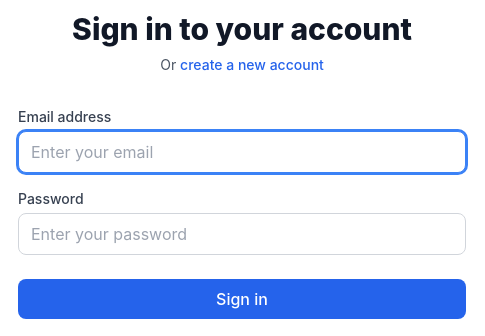
LoginPage › shows loading state during form submission
The image size is (485, 336).
Step 1. Type "test@example.com" into the field labelled "Email address" → (242, 152), box [18, 131, 466, 173]
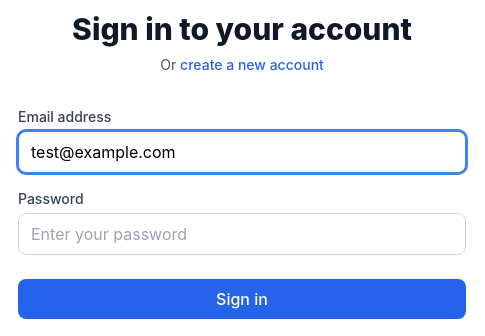
Step 2. Type "password123" into the password field labelled "Password" → (242, 234), box [18, 213, 466, 255]
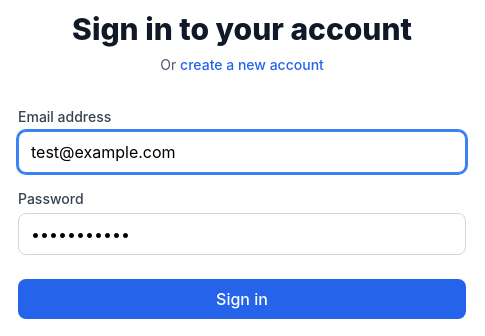
Step 3. Click the button "Sign in" → (242, 299), box [18, 279, 466, 319]
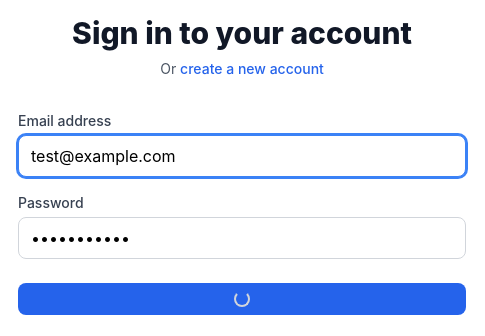
Expected: the button named "sign in" is disabled, [18, 283, 466, 315]
Expected: the message with test id "loading-spinner" is shown, [234, 291, 250, 307]
